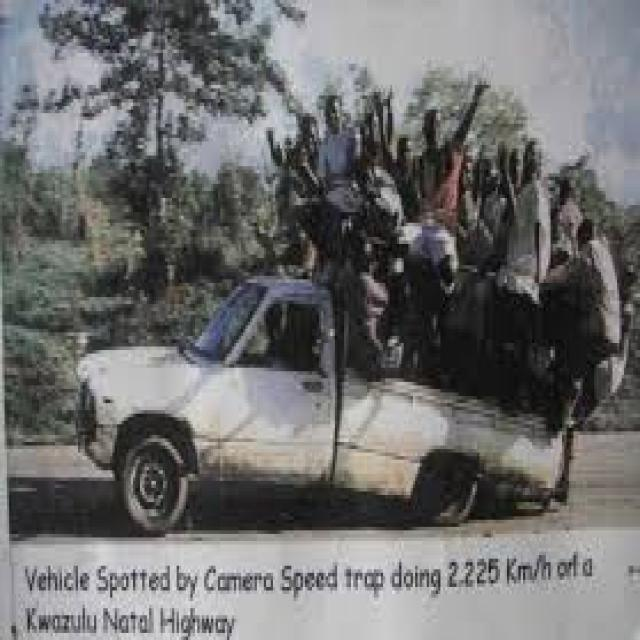Pickup Trucks: (80, 286, 567, 534)
